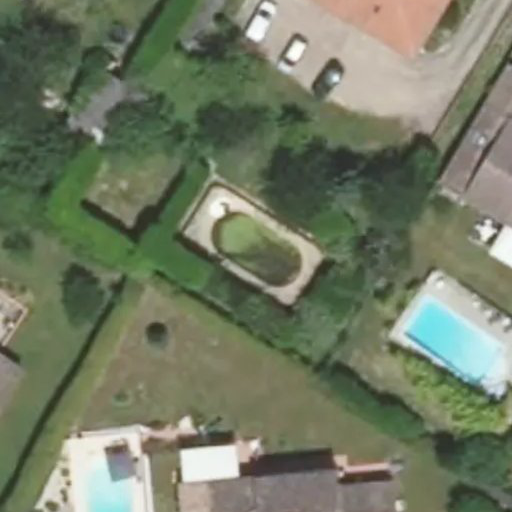pool: (189, 233, 312, 255)
